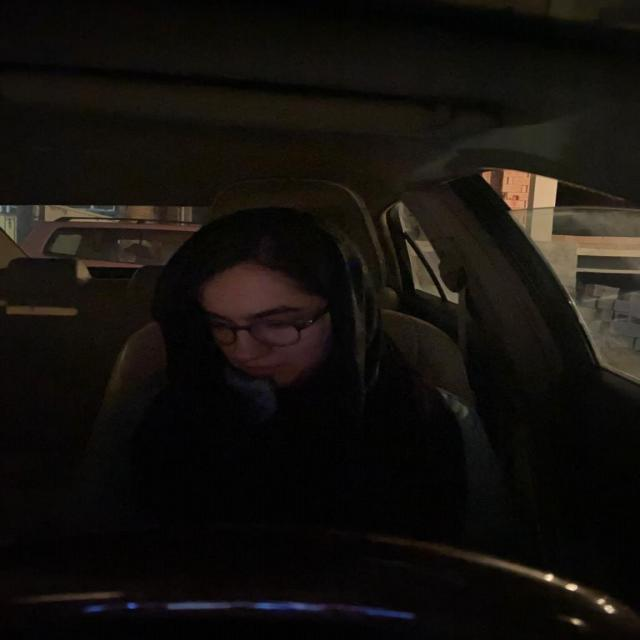drowsy: (167, 210, 370, 398)
